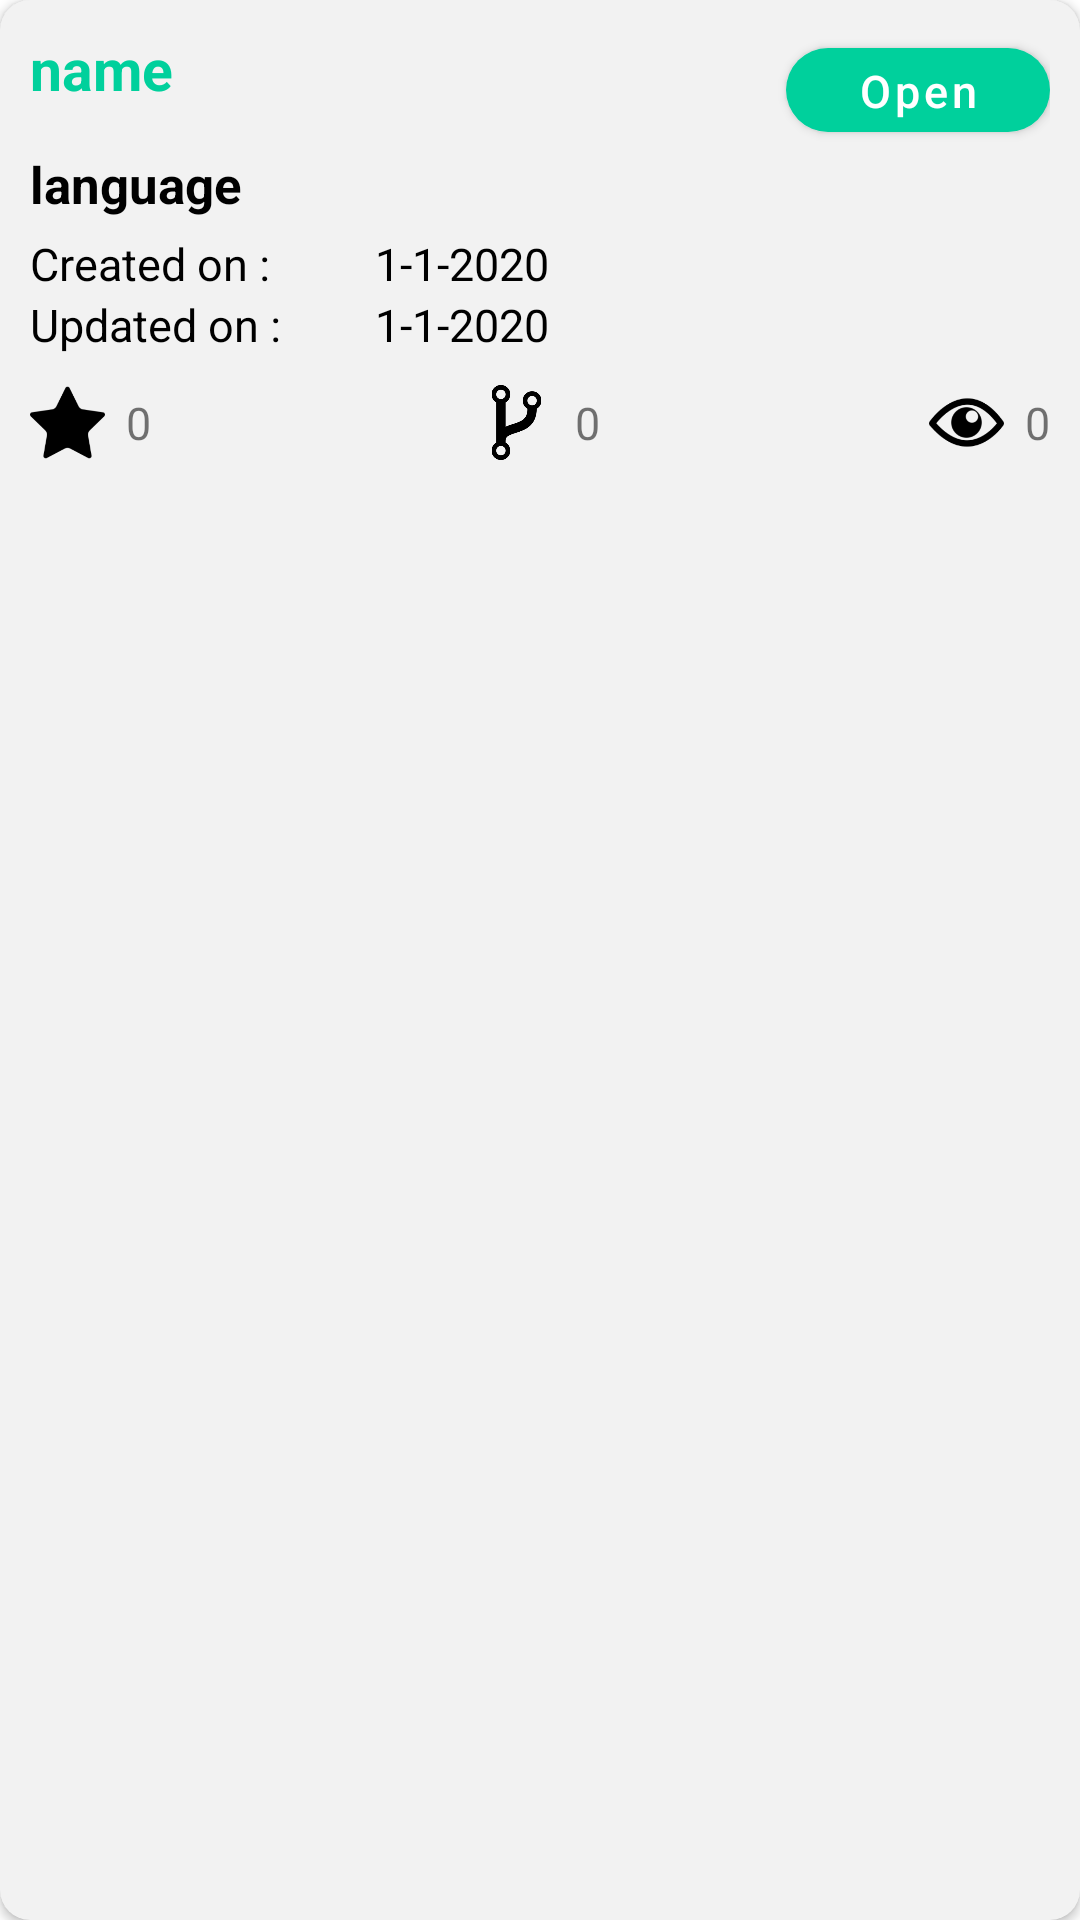

Icon bounding boxes for this 1080px×1920px phone screenshot, format region(x1, y1, x2, y2):
fork: region(492, 385, 541, 460)
star: region(30, 386, 105, 459)
watch: region(929, 398, 1004, 447)
